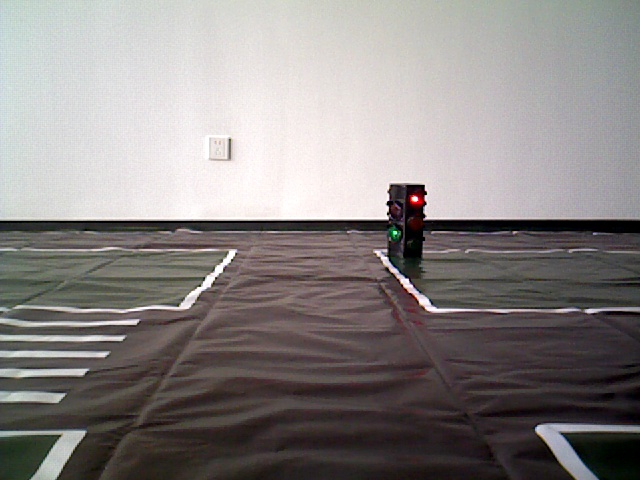red: (390, 182, 424, 266)
